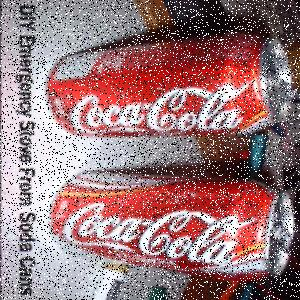Can: (50, 172, 295, 283), (45, 33, 295, 140)
